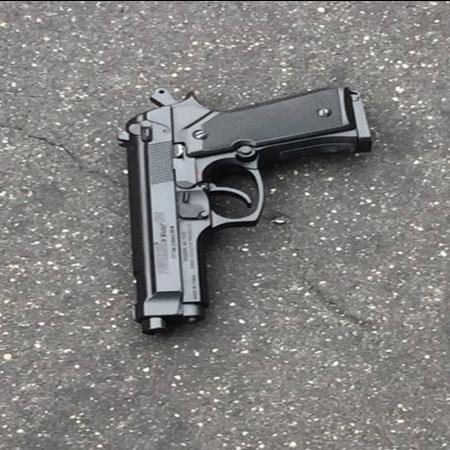Pistol: (122, 68, 374, 340)
